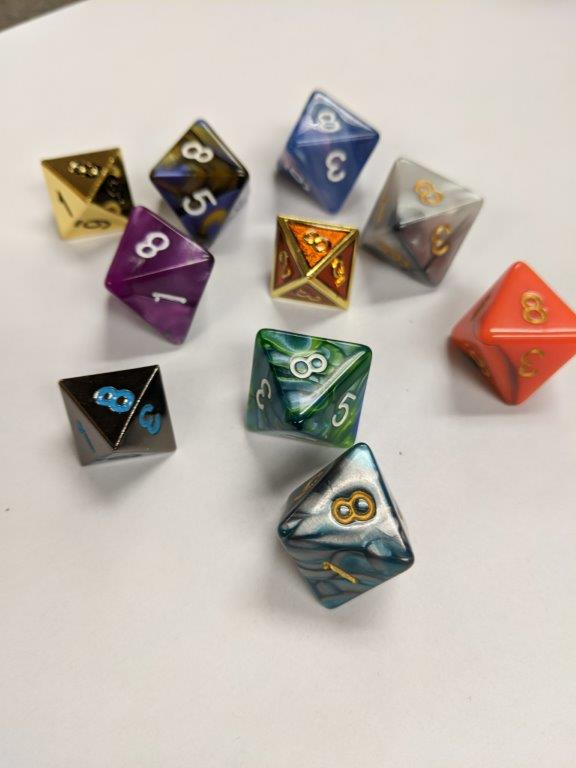d8-8: (279, 440, 416, 616), (447, 258, 576, 407), (353, 156, 485, 286), (237, 325, 372, 449), (100, 205, 216, 346), (278, 86, 379, 217), (60, 365, 182, 467), (149, 115, 249, 239), (41, 149, 138, 245), (265, 215, 356, 309)
